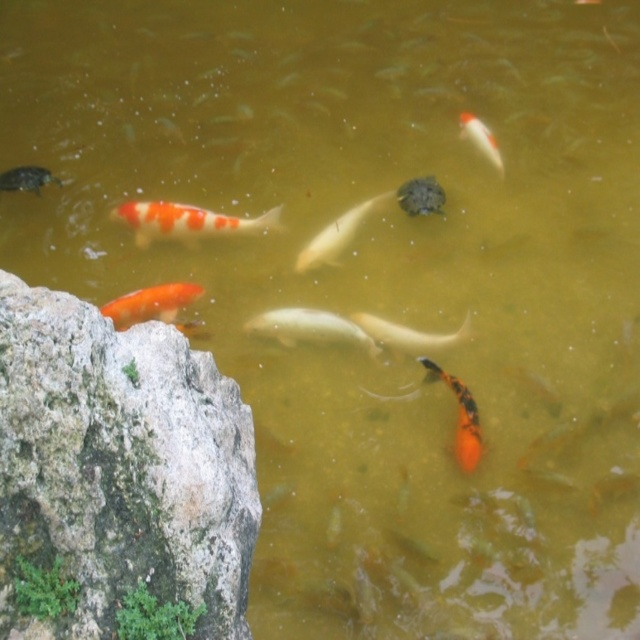Fish: (0, 46, 640, 640)
